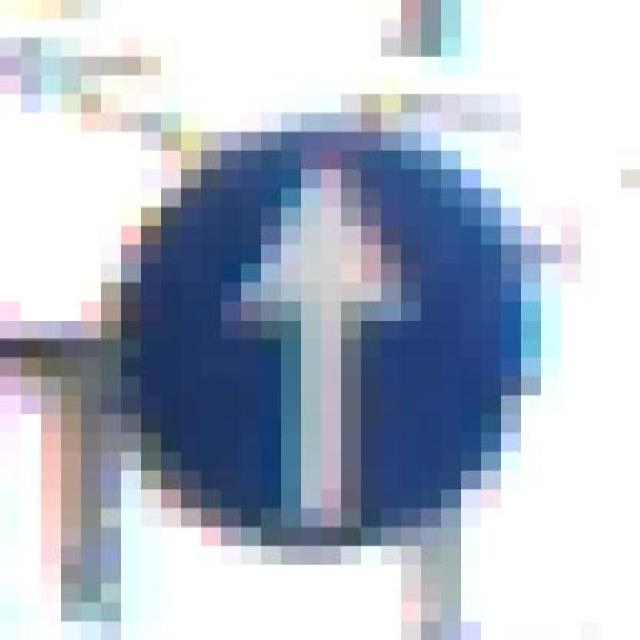Straight Ahead Only: (60, 76, 540, 564)
